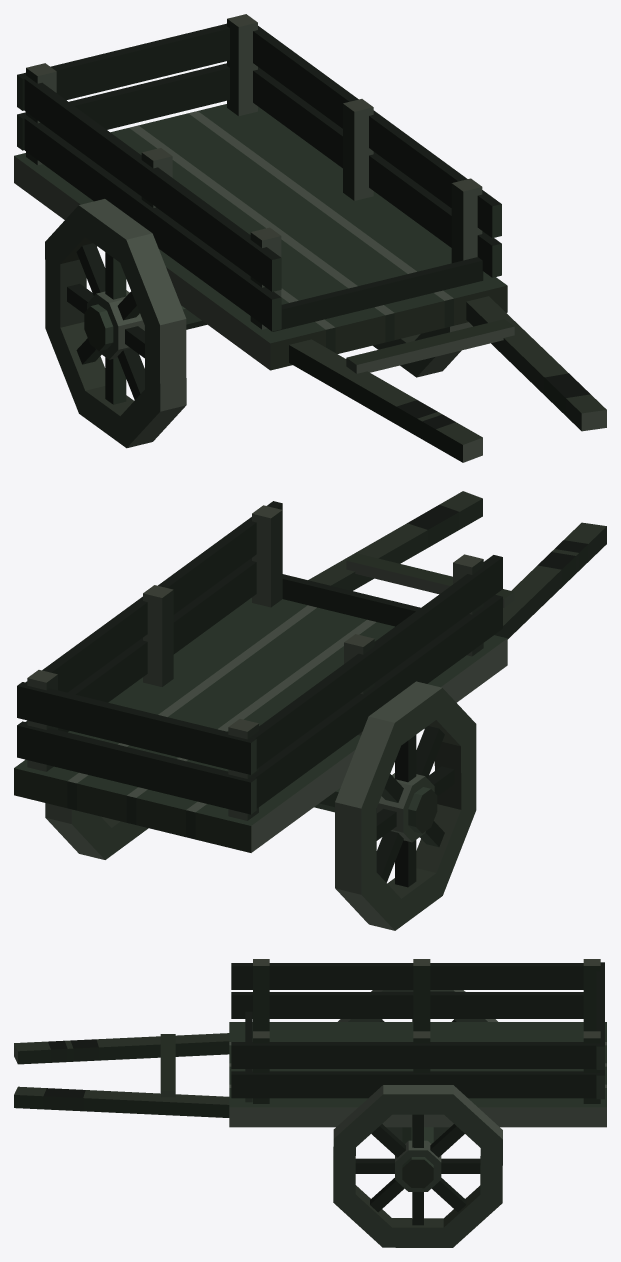
The model's file is SF_Veh_Cart_01.glb.
3 renders of one model, top to bottom at view 1: azimuth 30°, elevation 25°; view 2: azimuth 150°, elevation 25°; view 3: azimuth 270°, elevation 25°, orthographic. The views are drawn at different scales.
Parts seen in each view (by area): view 1: SF_Veh_Cart_01, SF_Veh_Cart_Wheel_01, SF_Veh_Cart_Wheel_02; view 2: SF_Veh_Cart_01, SF_Veh_Cart_Wheel_01, SF_Veh_Cart_Wheel_02; view 3: SF_Veh_Cart_01, SF_Veh_Cart_Wheel_02, SF_Veh_Cart_Wheel_01.
Part boxes in pixels (x1,y1,x2,y2): SF_Veh_Cart_01: (14, 14, 606, 462); SF_Veh_Cart_Wheel_01: (45, 199, 186, 448); SF_Veh_Cart_Wheel_02: (373, 322, 472, 377); SF_Veh_Cart_01: (14, 491, 606, 852); SF_Veh_Cart_Wheel_01: (335, 681, 476, 930); SF_Veh_Cart_Wheel_02: (45, 803, 148, 859); SF_Veh_Cart_01: (14, 959, 606, 1188); SF_Veh_Cart_Wheel_02: (333, 1085, 502, 1247); SF_Veh_Cart_Wheel_01: (338, 990, 497, 1141).
Bounding box in the file's own units: 0.0355 × 0.0267 × 0.0745.
Materials: 1 (1 with a texture image).
